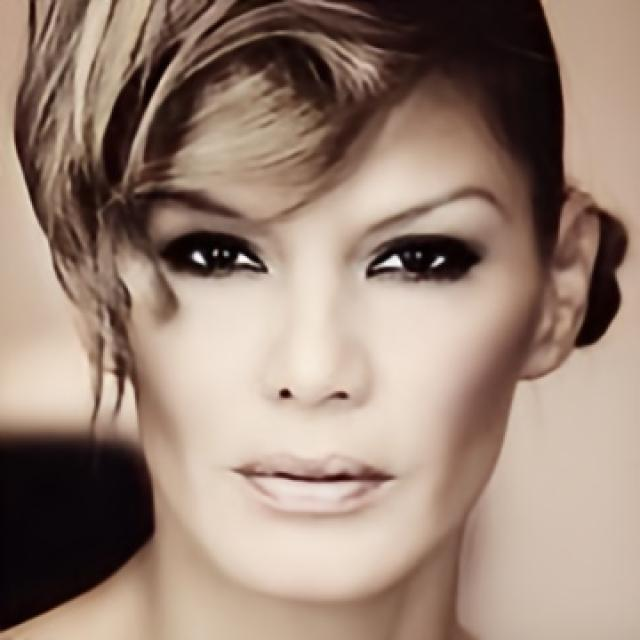neutral: (128, 48, 539, 603)
